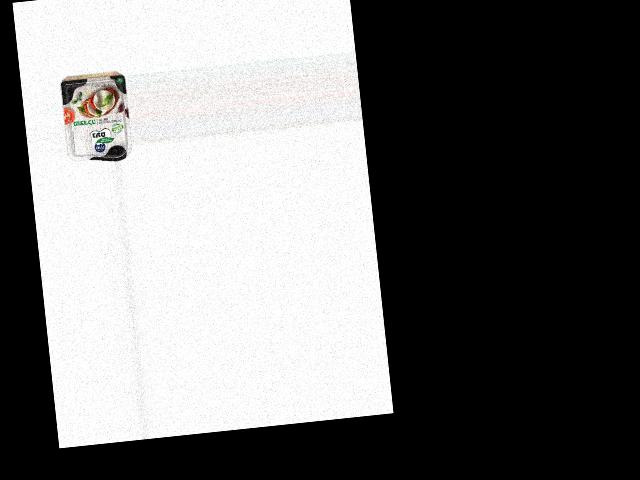cheese: (59, 73, 133, 164)
